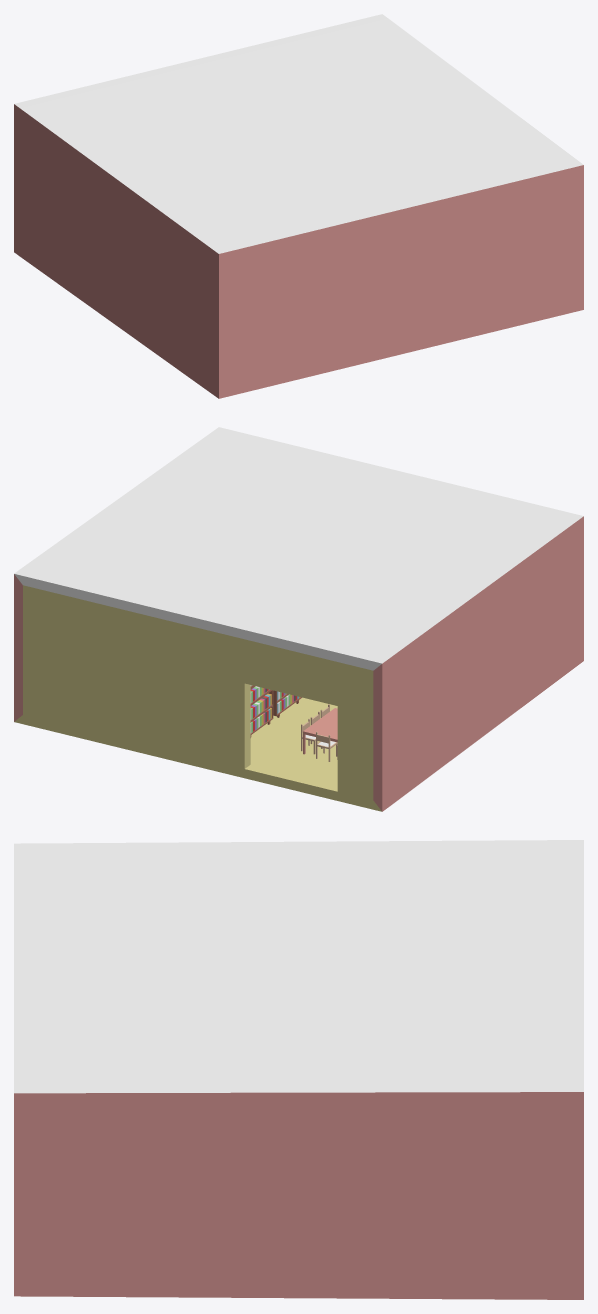
File: study room.glb
3 views of the same model, one above another, from view 1: azimuth 30°, elevation 25°; view 2: azimuth 150°, elevation 25°; view 3: azimuth 270°, elevation 25° (orthographic). The views are drawn at different scales.
Visible parts, largest first — view 1: Plane; view 2: Plane, Cube.029, Cube.016; view 3: Plane.
Boxes of the visible parts, box(x1,y1,x2,y2) form: Plane: box(14, 14, 583, 398); Plane: box(14, 427, 583, 811); Cube.029: box(301, 704, 337, 761); Cube.016: box(250, 685, 273, 737); Plane: box(14, 840, 583, 1299).
Size of the model in its own units: 1329 by 511 by 1270.
